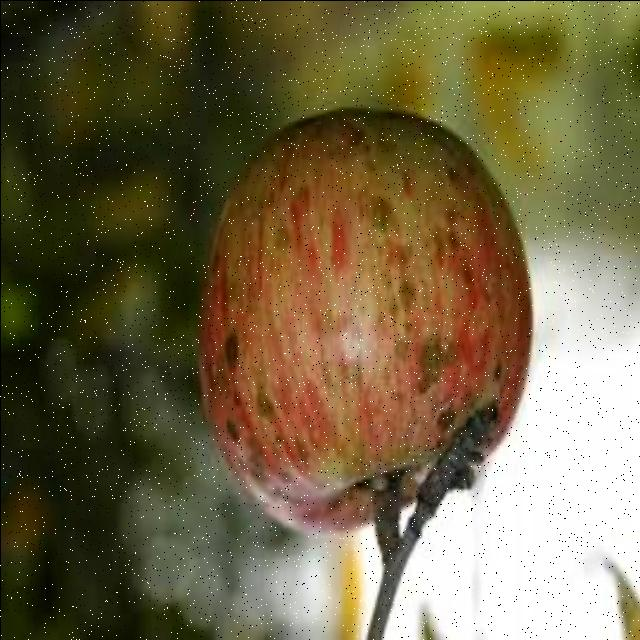BLOTCH: (181, 96, 543, 556)
